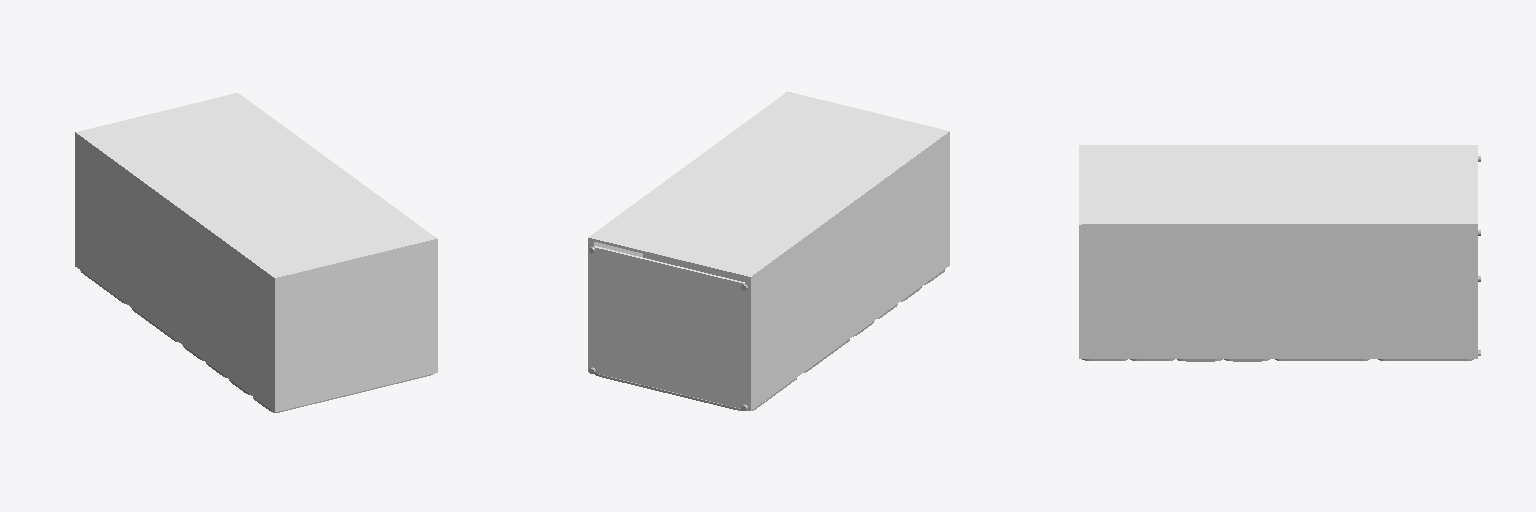
Rendered from StuvaFritidsDrawers_pink.obj.
The picture shows the model from 3 angles: view 1: azimuth 30°, elevation 25°; view 2: azimuth 150°, elevation 25°; view 3: azimuth 270°, elevation 25°; orthographic projection.
Visible parts, largest first — view 1: obj_0; view 2: obj_0; view 3: obj_0.
Boxes of the visible parts, x1=… form: obj_0: x1=75, y1=93, x2=437, y2=412; obj_0: x1=588, y1=91, x2=949, y2=410; obj_0: x1=1079, y1=145, x2=1480, y2=361.
Bounding box in the file's own units: 60 × 50 × 128.